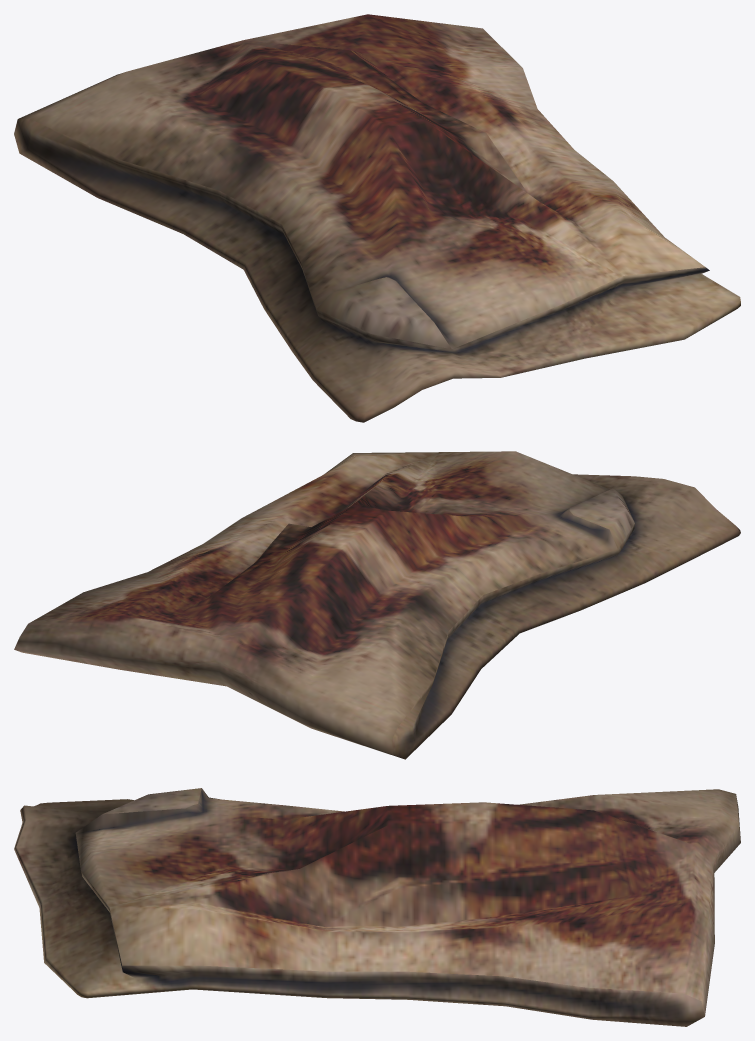
File: items_cloth.dae
3 views of the same model, one above another, from view 1: azimuth 30°, elevation 25°; view 2: azimuth 150°, elevation 25°; view 3: azimuth 270°, elevation 25° (orthographic). The views are drawn at different scales.
Visible parts, largest first — view 1: cloth; view 2: cloth; view 3: cloth.
Part boxes in pixels (x1,y1,x2,y2): cloth: [14, 14, 740, 422]; cloth: [14, 451, 740, 759]; cloth: [14, 788, 740, 1026].
Size of what is drawn, in the model's own units: 0.2917 by 0.0729 by 0.407.
